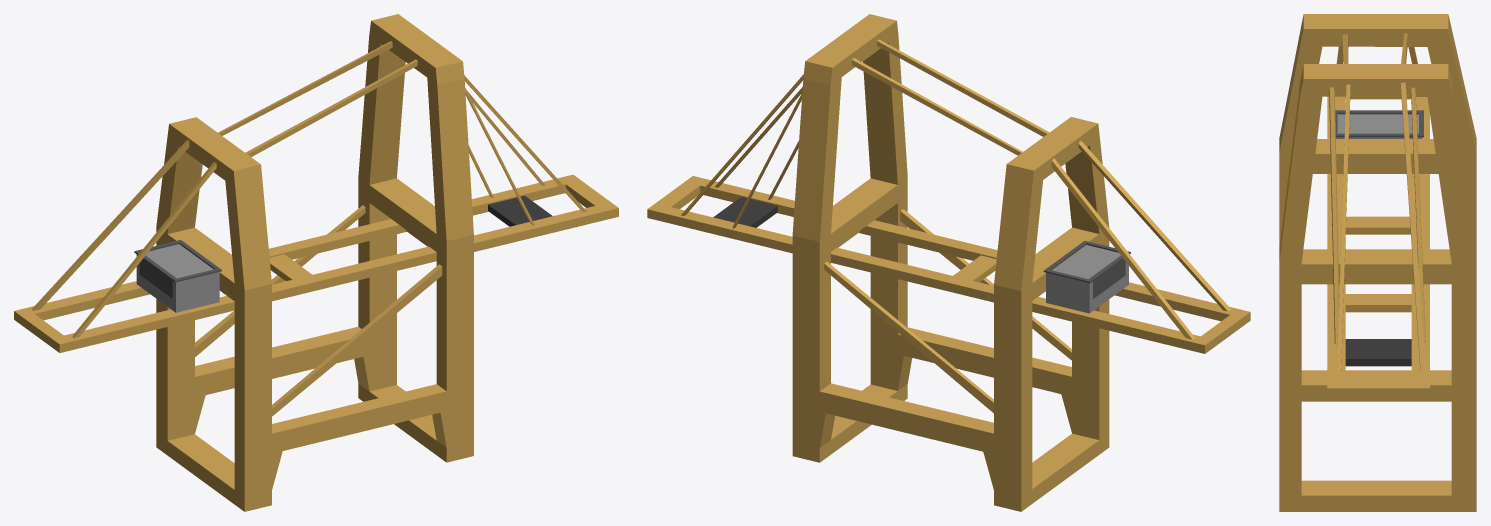
File: Building_PortCrane.fbx
3 views of the same model, side by side, from view 1: azimuth 30°, elevation 25°; view 2: azimuth 150°, elevation 25°; view 3: azimuth 270°, elevation 25° (orthographic). The views are drawn at different scales.
Parts seen in each view (by area): view 1: Cube, Plane; view 2: Cube, Plane; view 3: Cube, Plane.
Part boxes in pixels (x1,y1,x2,y2): Cube: (32,14,586,511); Plane: (14,174,618,352); Cube: (681,14,1231,511); Plane: (647,176,1250,353); Cube: (1279,14,1476,511); Plane: (1327,96,1429,398).
Bounding box in the file's own units: 7956 × 5258 × 2174.
